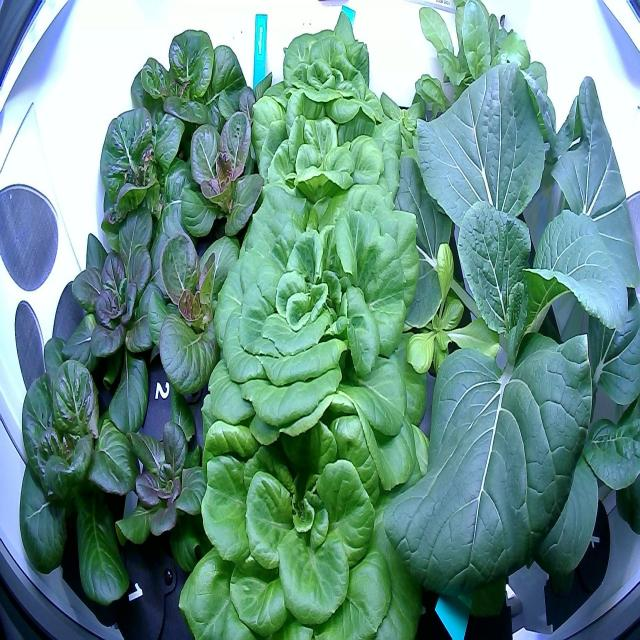Ready: (198, 174, 438, 492), (172, 372, 436, 639), (242, 84, 414, 244), (267, 6, 391, 150)
young: (16, 338, 160, 617), (39, 192, 180, 441), (105, 378, 222, 583), (118, 21, 254, 188), (88, 91, 207, 274), (134, 208, 238, 396), (397, 228, 514, 388), (172, 90, 269, 267), (377, 78, 446, 168)
